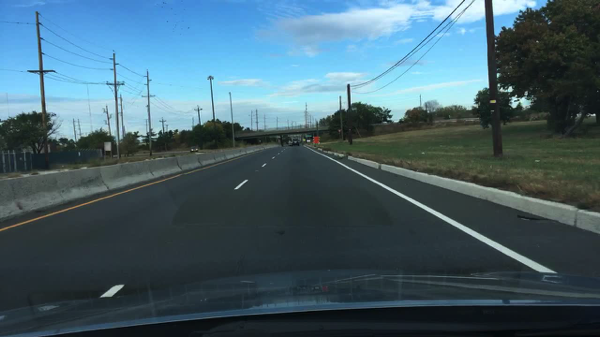car: (292, 138, 301, 147), (190, 146, 199, 153), (289, 140, 295, 147)
traffic sign: (306, 133, 316, 139), (105, 142, 111, 151), (313, 136, 320, 143), (307, 140, 312, 144)
